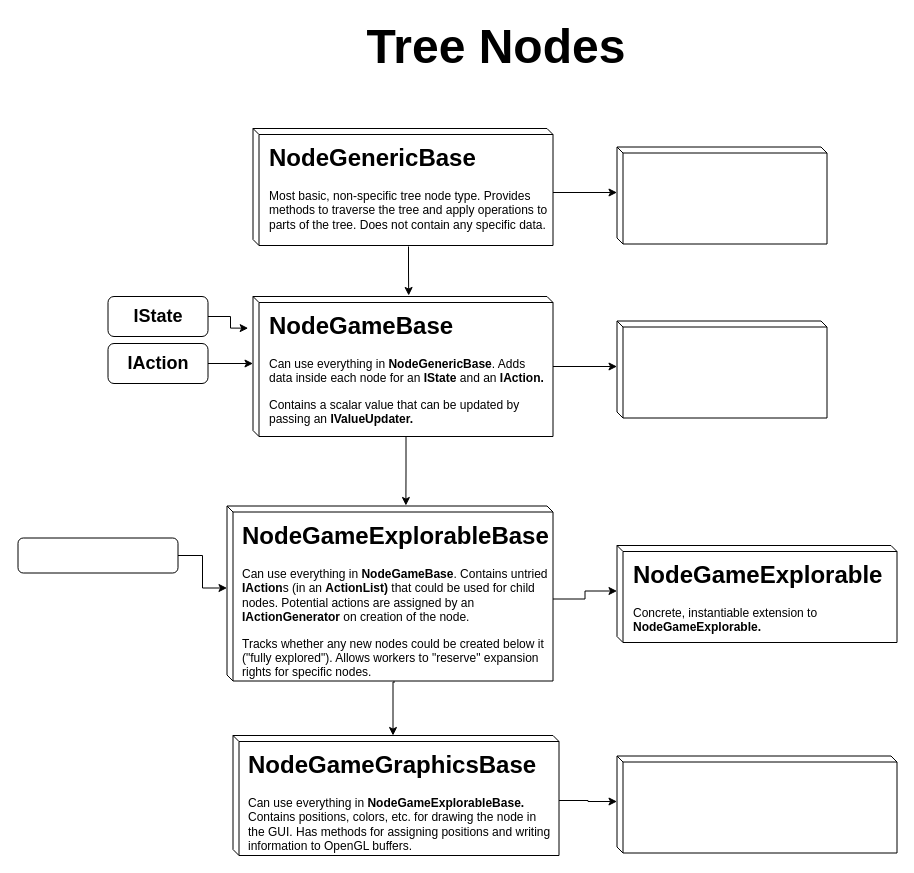
Some shapes in this 914 by 873 pixel diagram are drawn without their labels. Here are the shapes that lost their labels. From the top down, the centre of each, then its label:
At (x=721, y=195): "NodeGeneric Concrete, instantiable extension to NodeGenericBase.".
At (x=721, y=369): "NodeGame Concrete, instantiable extension to NodeGameBase.".
At (x=97, y=555): "IActionGenerator".
At (x=756, y=804): "NodeGameGraphics Concrete, instantiable extension to NodeGameExplorable.".
